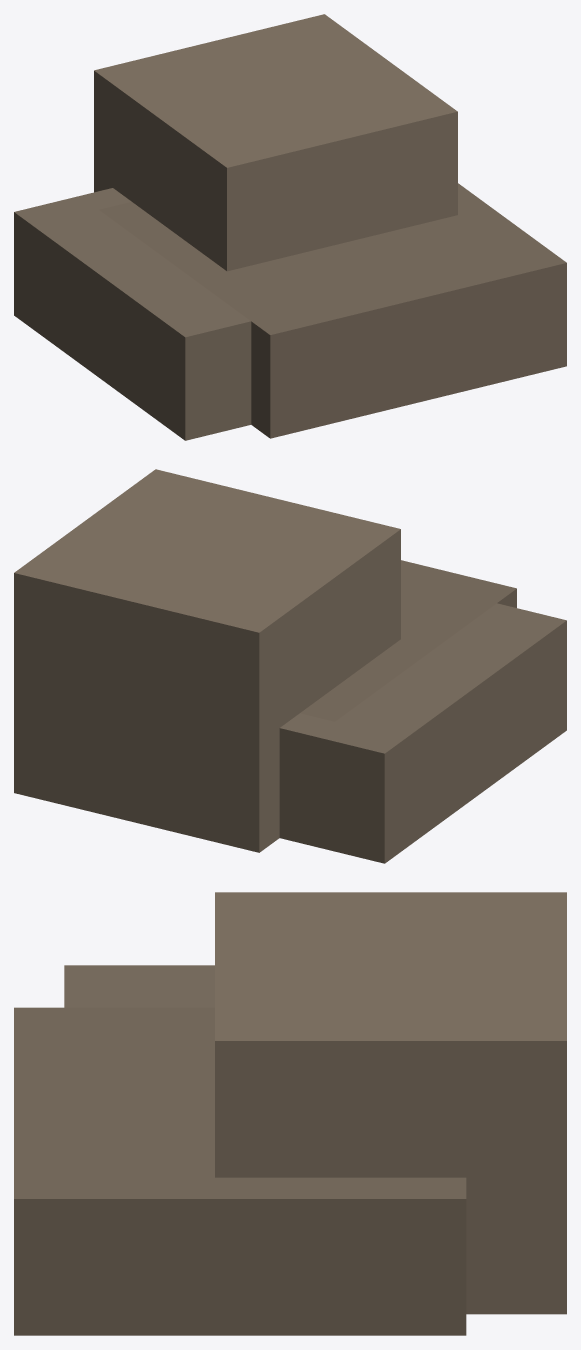
Rendered from turba_05.glb.
The picture shows the model from 3 angles, top to bottom: view 1: azimuth 30°, elevation 25°; view 2: azimuth 150°, elevation 25°; view 3: azimuth 270°, elevation 25°; orthographic projection. The views are drawn at different scales.
Visible parts, largest first — view 1: turba_05; view 2: turba_05; view 3: turba_05.
Part boxes in pixels (x1,y1,x2,y2): turba_05: (14, 14, 566, 440); turba_05: (14, 469, 566, 863); turba_05: (14, 892, 566, 1335).
Size of the model in its own units: 1.1 by 0.6 by 1.1.
